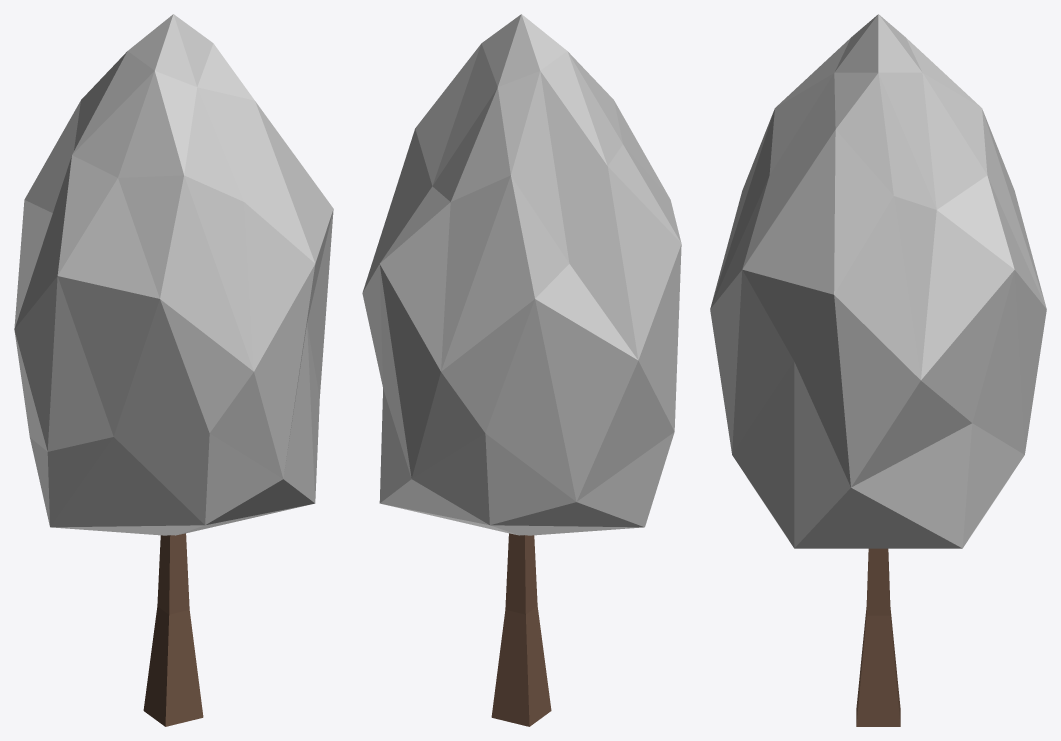
Rendered from Tree_40_White.fbx.
The picture shows the model from 3 angles, left to right: view 1: azimuth 30°, elevation 25°; view 2: azimuth 150°, elevation 25°; view 3: azimuth 270°, elevation 25°; orthographic projection.
Visible parts, largest first — view 1: Tree_40_White_Part_1, Tree_40_White_Part_2; view 2: Tree_40_White_Part_1, Tree_40_White_Part_2; view 3: Tree_40_White_Part_1, Tree_40_White_Part_2.
Part boxes in pixels (x1,y1,x2,y2): Tree_40_White_Part_1: (14,14,333,535); Tree_40_White_Part_2: (143,533,203,726); Tree_40_White_Part_1: (362,14,681,535); Tree_40_White_Part_2: (491,533,551,726); Tree_40_White_Part_1: (710,14,1046,548); Tree_40_White_Part_2: (856,548,900,726).
Bounding box in the file's own units: 331 × 798 × 346.
